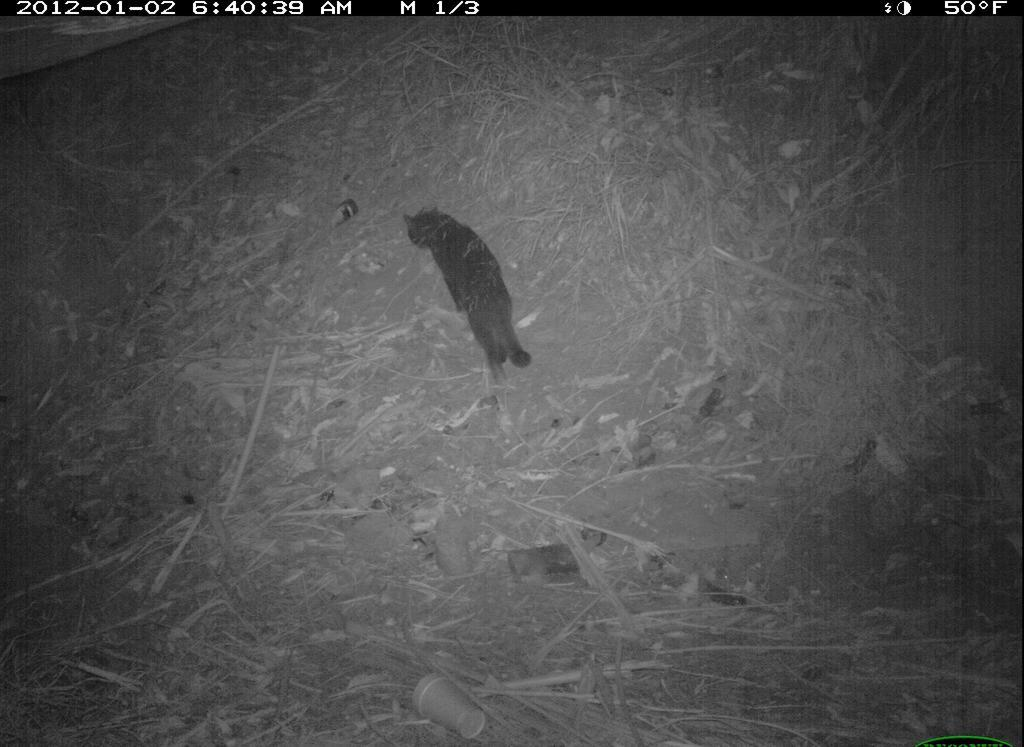cat: (400, 191, 539, 391)
